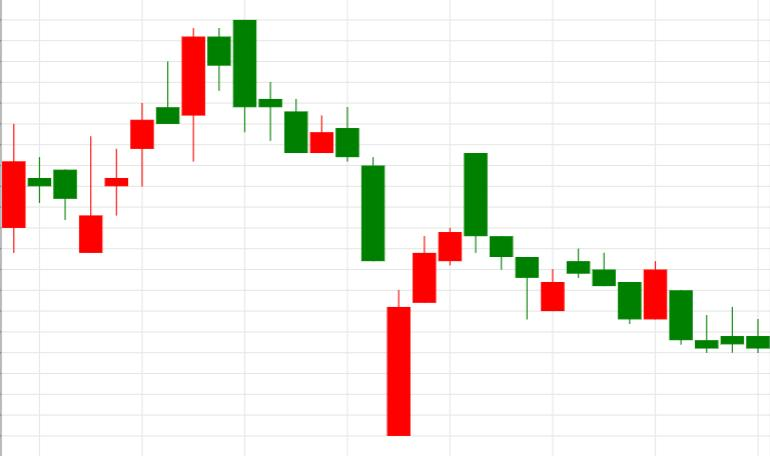three_white_soldiers_rise: (234, 20, 461, 436)
